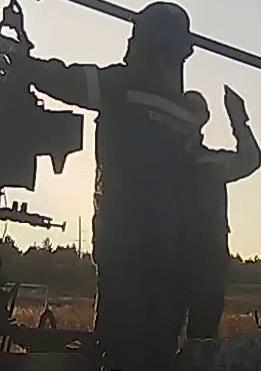gloves: (222, 82, 250, 132)
helmet: (127, 0, 198, 50), (182, 90, 213, 128)
vest: (99, 64, 200, 225)
